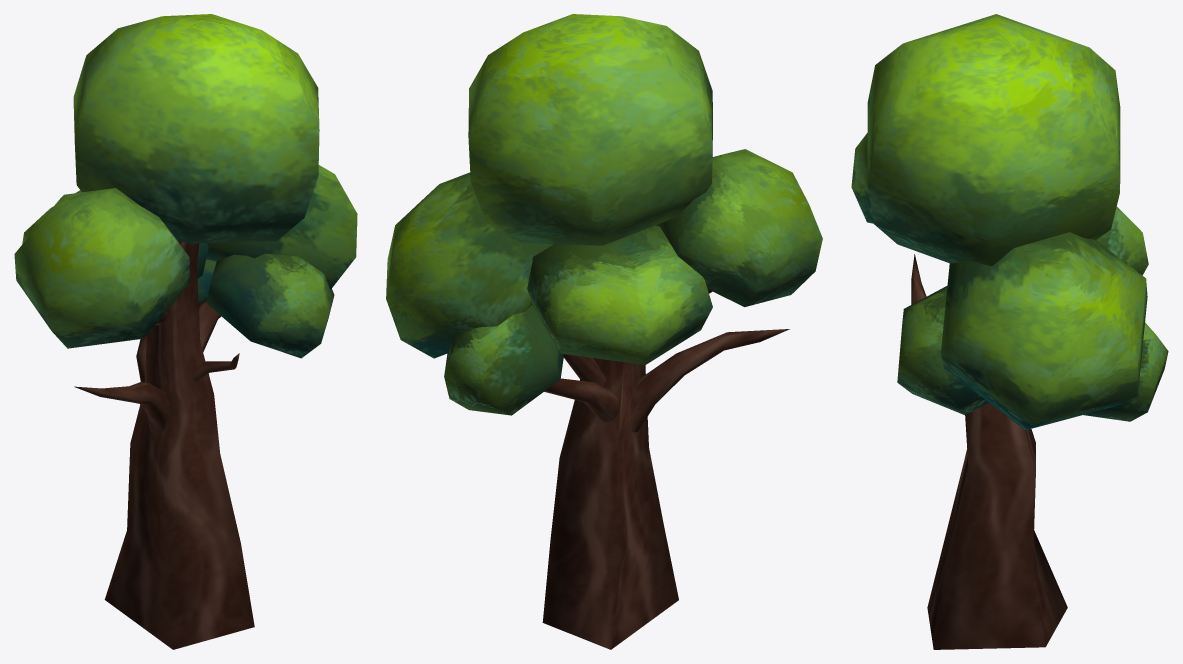
File: tree4.fbx
The picture shows the model from 3 angles, left to right: view 1: azimuth 30°, elevation 25°; view 2: azimuth 150°, elevation 25°; view 3: azimuth 270°, elevation 25°; orthographic projection. The views are drawn at different scales.
Parts seen in each view (by area): view 1: tree4; view 2: tree4; view 3: tree4.
Boxes of the visible parts, left/top/right/bottom form: tree4: left=14, top=14, right=357, bottom=649; tree4: left=386, top=14, right=822, bottom=649; tree4: left=851, top=14, right=1168, bottom=649.
Bounding box in the file's own units: 83.3 × 126 × 60.28.
1 material, 1 textured.
